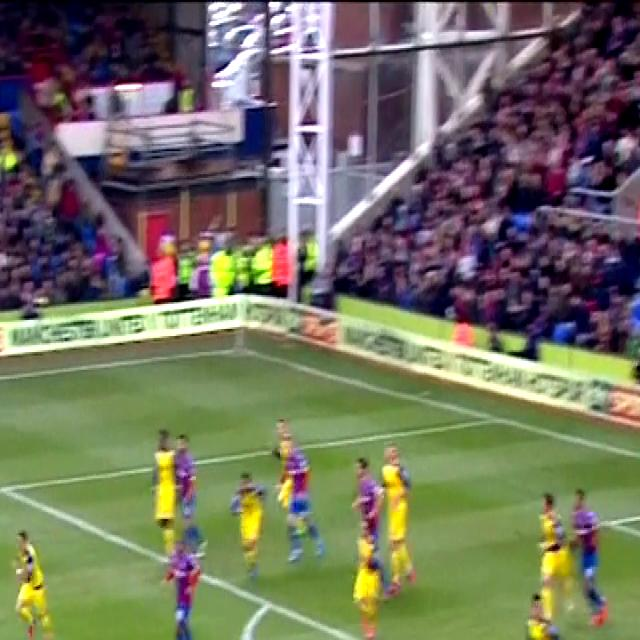soccer-player: (352, 441, 430, 606), (270, 405, 334, 570), (560, 481, 625, 631), (4, 521, 66, 640), (528, 484, 580, 622), (222, 460, 276, 585), (159, 531, 216, 640), (142, 421, 177, 562), (514, 585, 575, 640), (176, 429, 203, 549)
